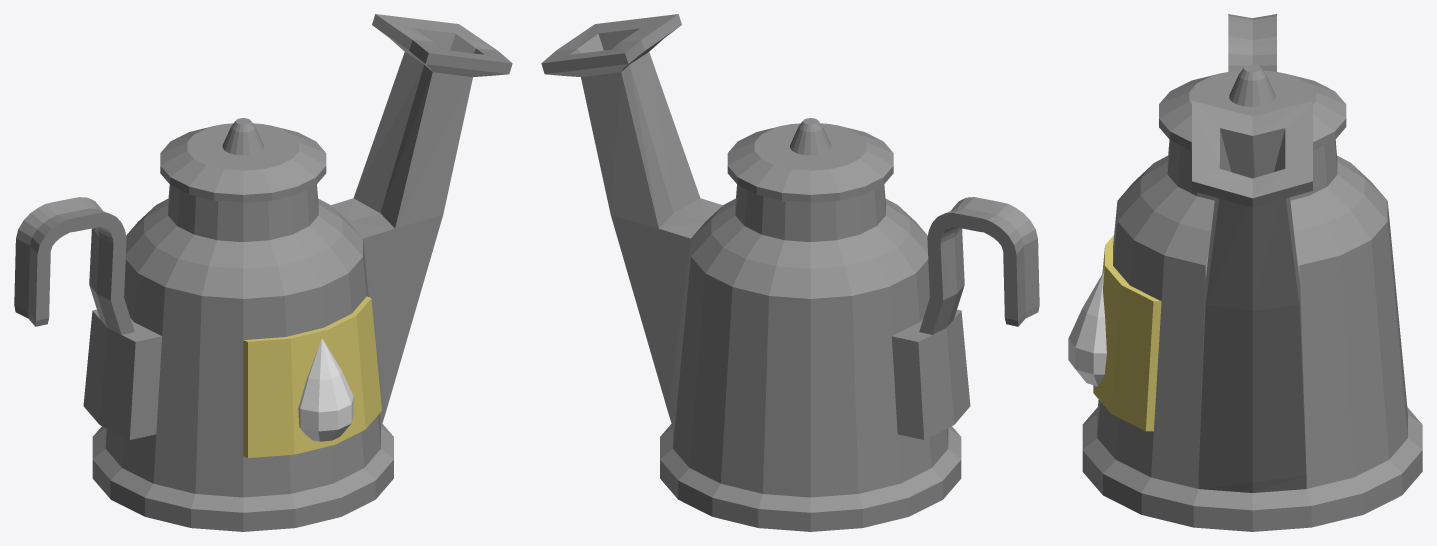
The model's file is Oli.FBX.
3 views of the same model, side by side, from view 1: azimuth 30°, elevation 25°; view 2: azimuth 150°, elevation 25°; view 3: azimuth 270°, elevation 25° (orthographic). The views are drawn at different scales.
Parts seen in each view (by area): view 1: Cylinder001, Sphere001; view 2: Cylinder001; view 3: Cylinder001, Sphere001.
Part boxes in pixels (x1,y1,x2,y2): Cylinder001: [14, 14, 512, 531]; Sphere001: [298, 339, 353, 441]; Cylinder001: [541, 14, 1039, 531]; Cylinder001: [1082, 14, 1422, 531]; Sphere001: [1068, 271, 1106, 386].
Bounding box in the file's own units: 74.74 × 59.7 × 42.99.
